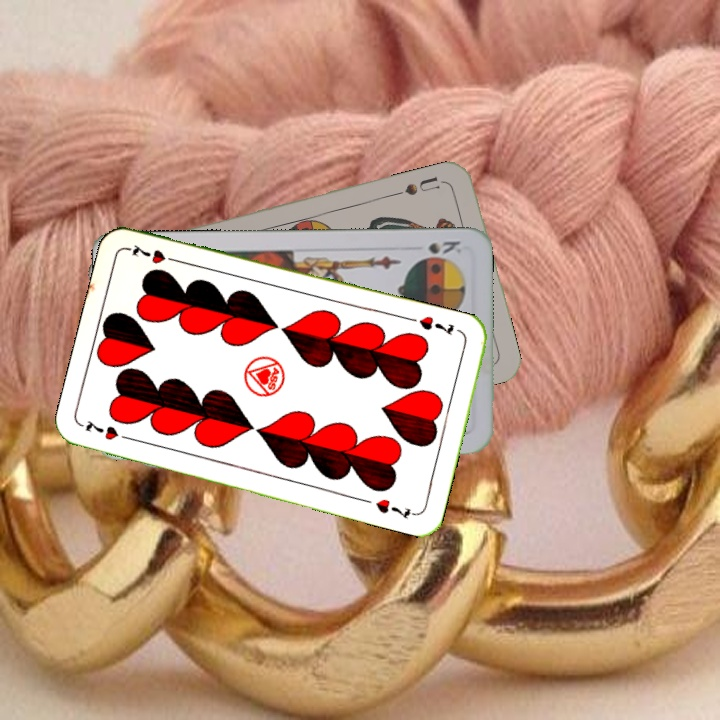H7: (81, 416, 137, 444), (415, 312, 457, 338)
SK: (424, 237, 463, 256)
SU: (401, 172, 450, 198)
